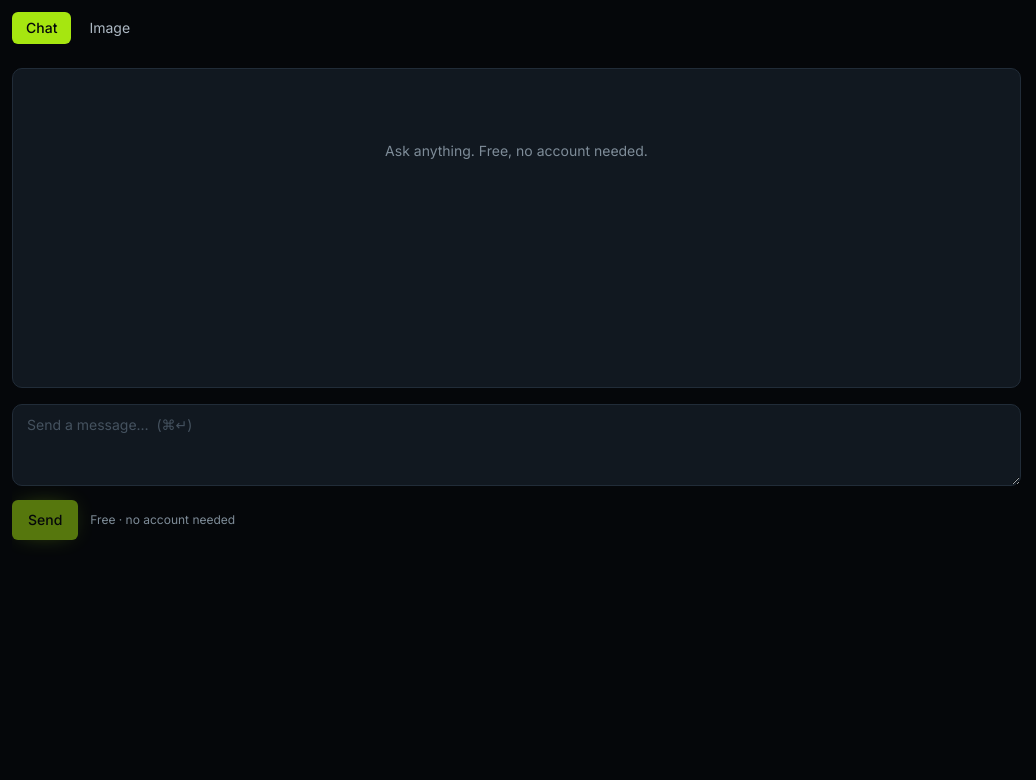
Test case: the image tab once connected › generates, and refreshes the remaining count afterwards
Click the tab "image".
click(110, 28)  # box top-left (75, 12), bottom-right (144, 44)
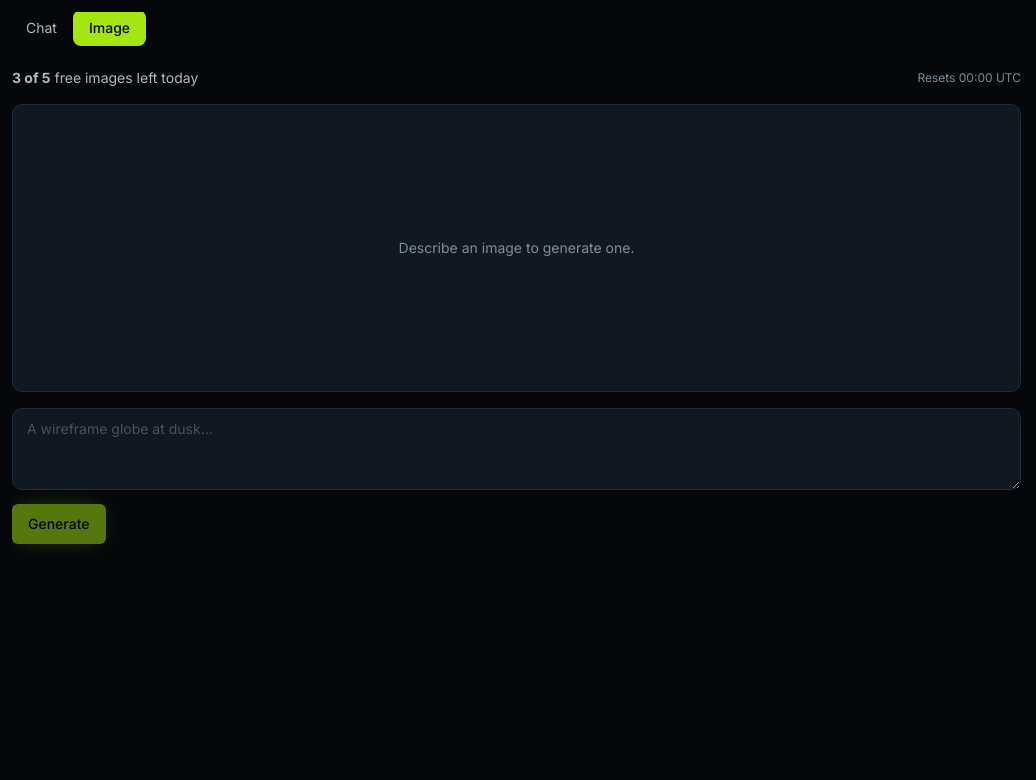
Result: the text "3 of 5" is shown at top-left (12, 69), bottom-right (51, 86)
Type "a globe" into the text box named "Image prompt".
click(516, 449); type("a globe")  # box top-left (12, 408), bottom-right (1021, 490)
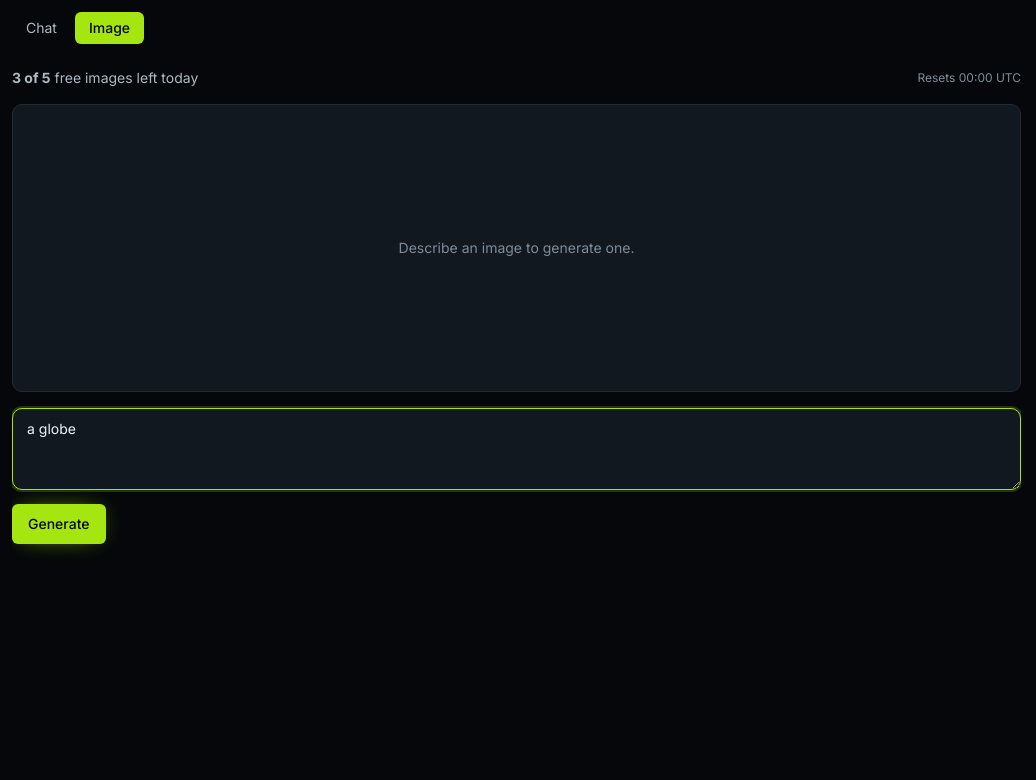
Click the button "Generate".
click(59, 524)  # box top-left (12, 504), bottom-right (106, 544)
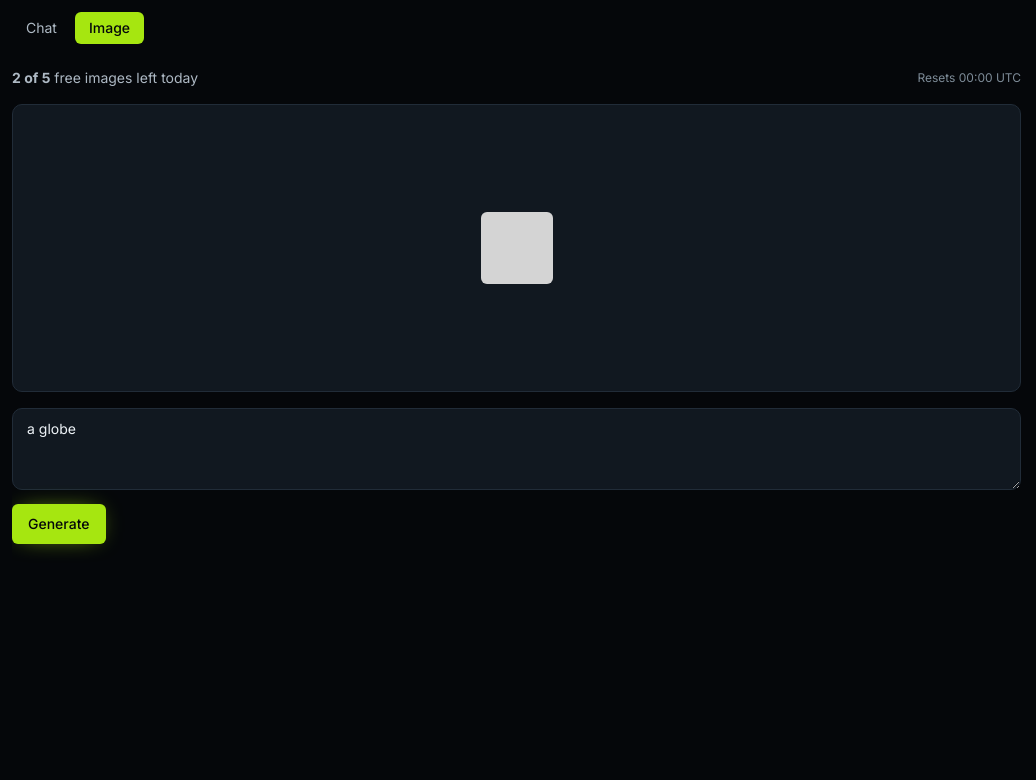
Result: the text with test id "image-quota" reads "2 of 5" at top-left (12, 69), bottom-right (50, 86)
